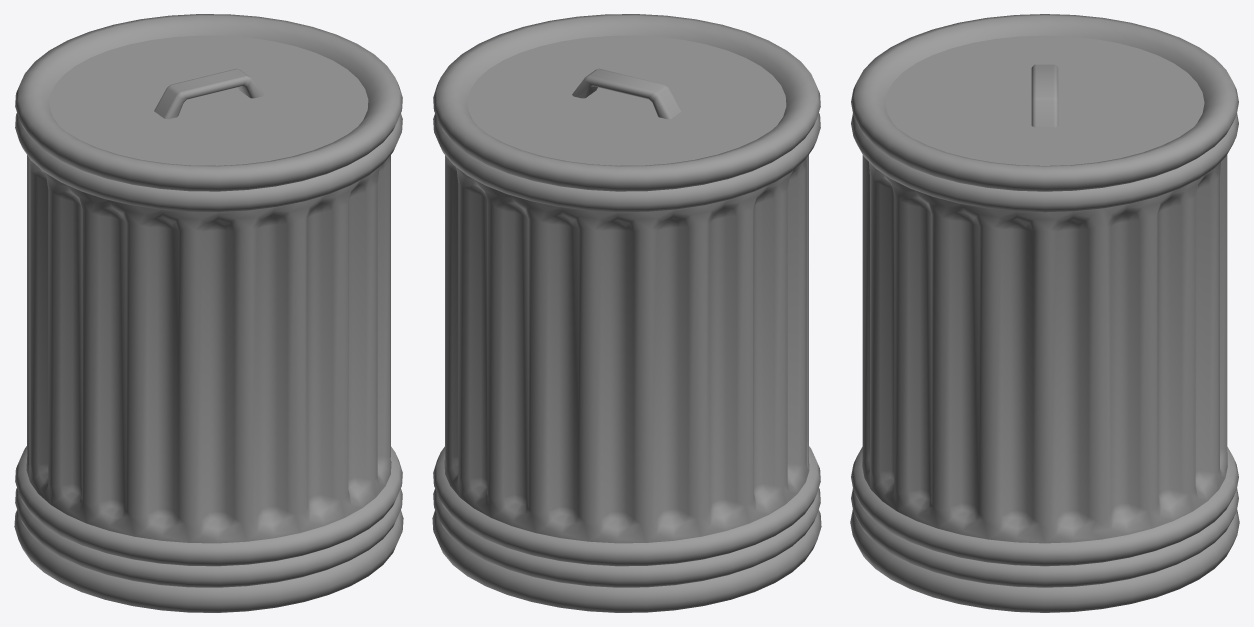
The model's file is trash-can.glb.
3 views of the same model, side by side, from view 1: azimuth 30°, elevation 25°; view 2: azimuth 150°, elevation 25°; view 3: azimuth 270°, elevation 25° (orthographic).
Visible parts, largest first — view 1: Trash_Can; view 2: Trash_Can; view 3: Trash_Can.
Part boxes in pixels (<box>): Trash_Can: <box>14,14,403,612</box>; Trash_Can: <box>432,14,821,612</box>; Trash_Can: <box>850,14,1239,612</box>.
Bounding box in the file's own units: 0.4499 × 0.5799 × 0.4499.
1 material, 1 textured.
